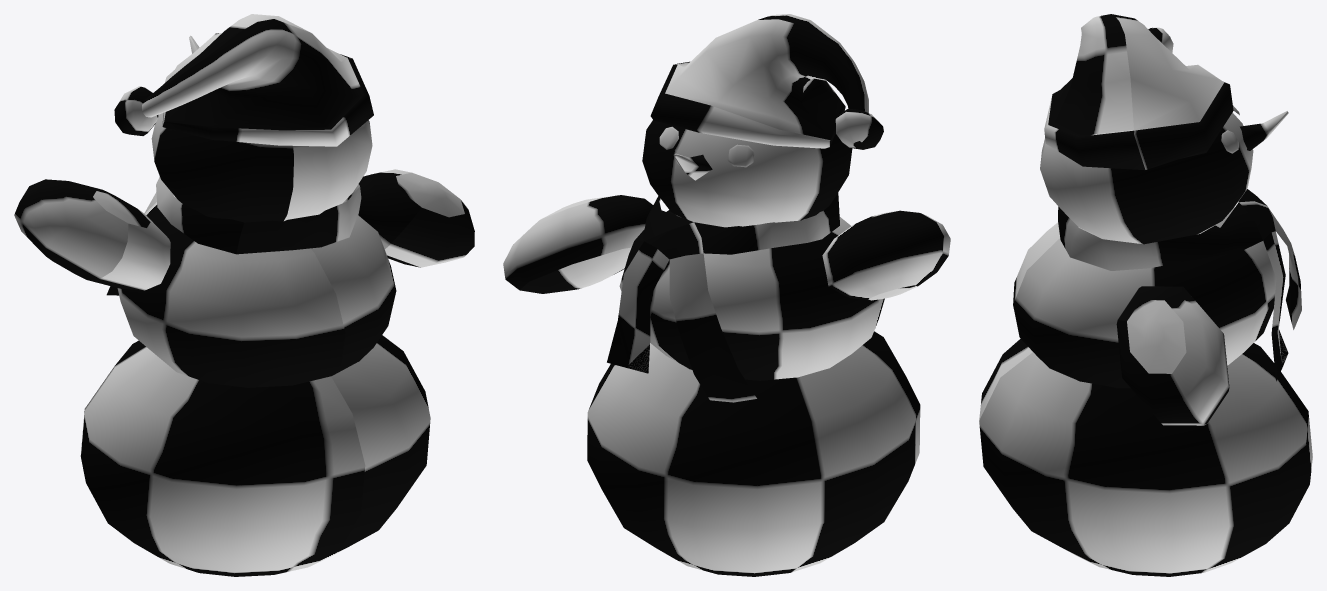
Rendered from snowman.obj.
3 renders of one model, left to right at view 1: azimuth 30°, elevation 25°; view 2: azimuth 150°, elevation 25°; view 3: azimuth 270°, elevation 25°, orthographic. The views are drawn at different scales.
Visible parts, largest first — view 1: main; view 2: main; view 3: main.
Boxes of the visible parts, x1,y1,x2,y2 form: main: (14,14,474,576); main: (503,14,950,576); main: (979,14,1312,576).
Size of the model in its own units: 77.64 by 89.71 by 51.09.
1 material, 1 textured.
